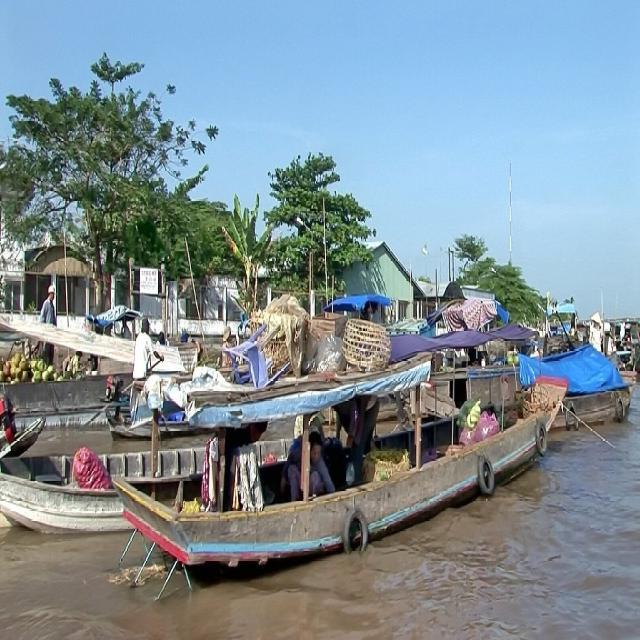boat: (107, 374, 574, 580)
